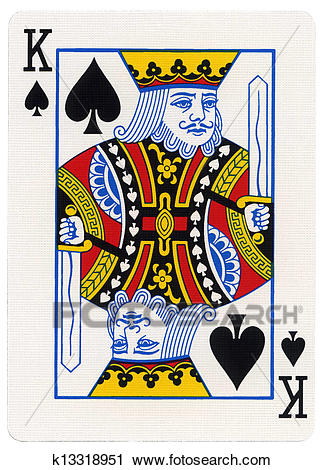king of spades: (8, 9, 312, 440)
